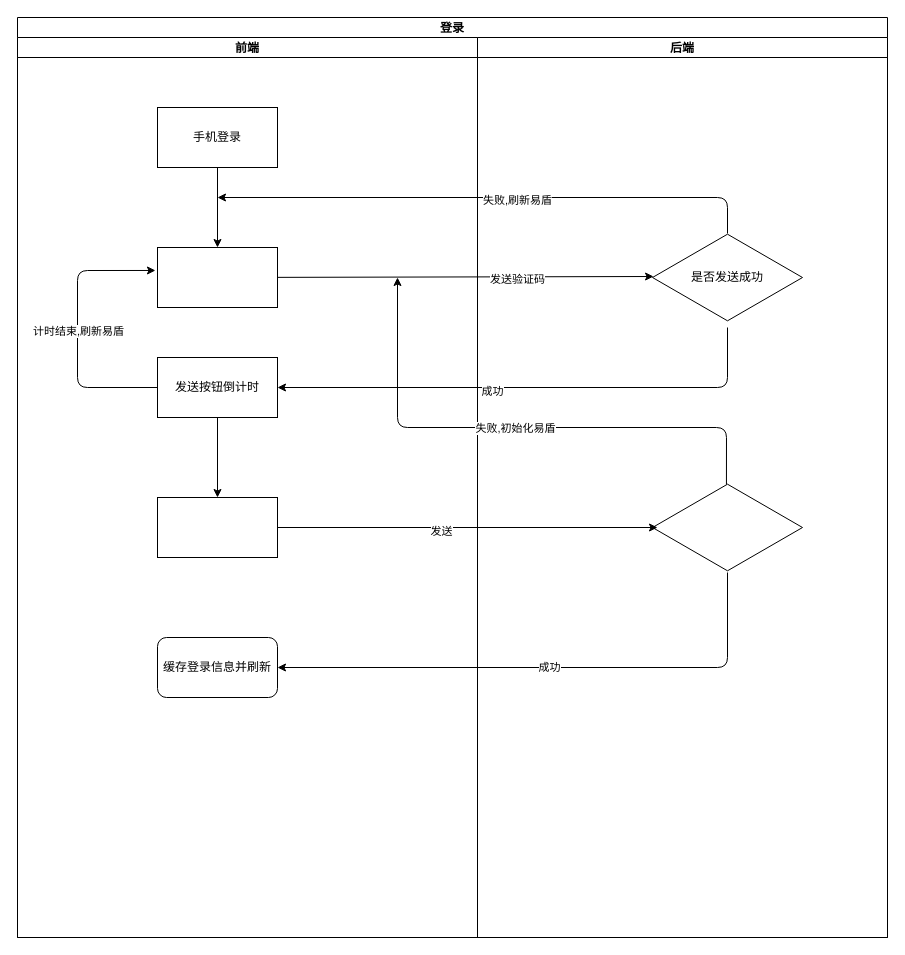
The diagram is 905 pixels wide and 955 high, and some of its shapes have lost their labels. Here are the shapes that lost their labels. From the top down, the centre of each, then its label:
At pixel 217 277: "易盾验证".
At pixel 217 527: "填入验证码".
At pixel 727 527: "是否成功登录".
